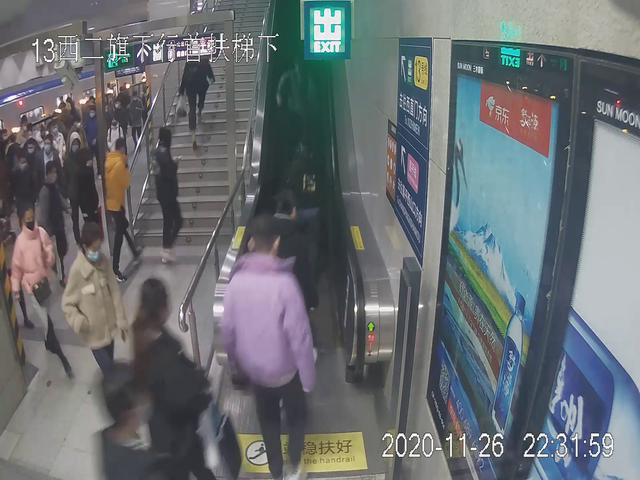person: (226, 215, 318, 480), (64, 222, 132, 385), (8, 206, 71, 376), (97, 137, 144, 285), (148, 129, 185, 257), (176, 47, 220, 148)
